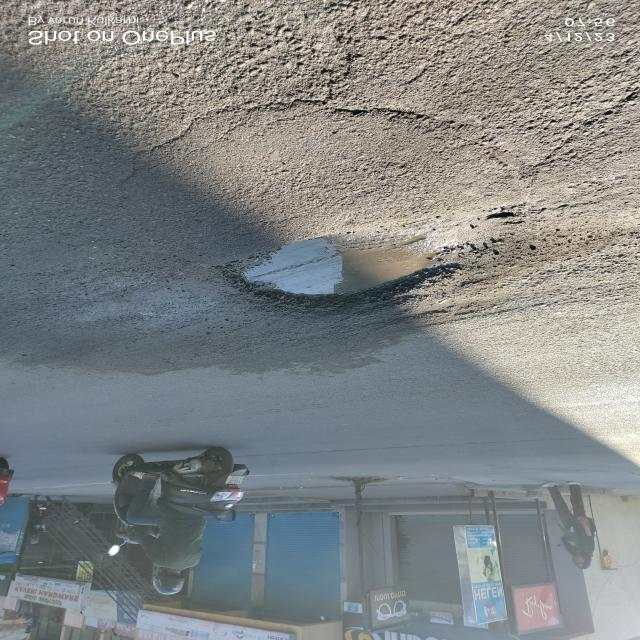Puddle pothole: (233, 228, 473, 312)
